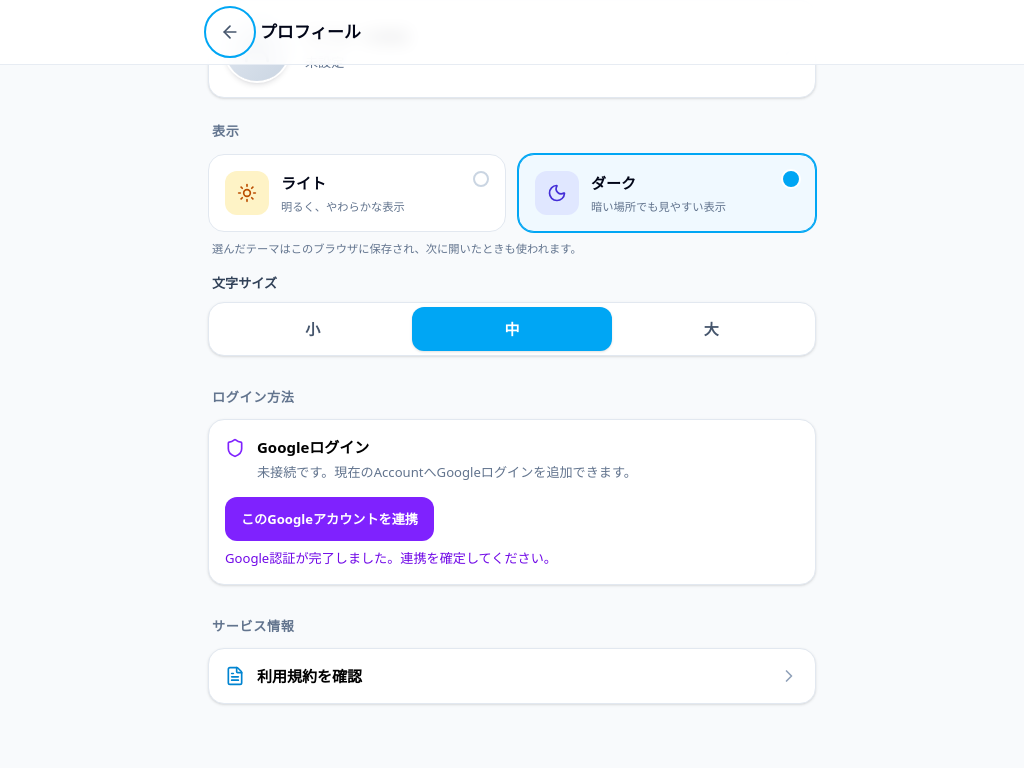
Scenario: ProfileSettingsScreen › 外部browserのGoogle認証完了後に元のLIFFで明示確定する
(page scrolled)
Expected: the button "Googleと連携" is not shown
What coordinates should you click on to do the following:
click the button "このGoogleアカウントを連携"
I would click on:
 (329, 519)
Its box is [225, 497, 434, 541].
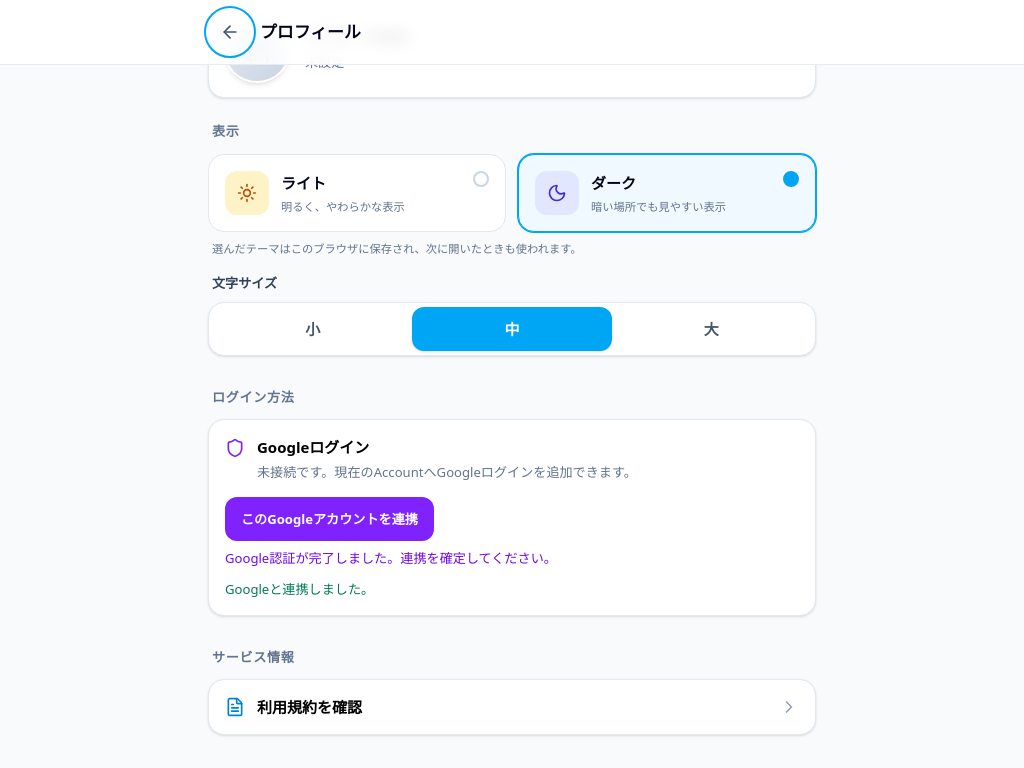
Now the text "Googleと連携しました。" is shown, box [225, 580, 374, 598]
